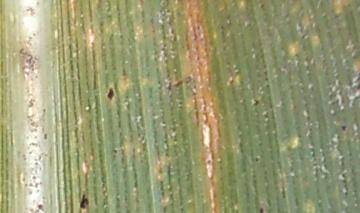tarspot: (79, 193, 90, 210), (106, 86, 115, 101), (251, 98, 260, 107), (340, 123, 347, 132), (254, 155, 260, 164), (258, 206, 264, 213)
